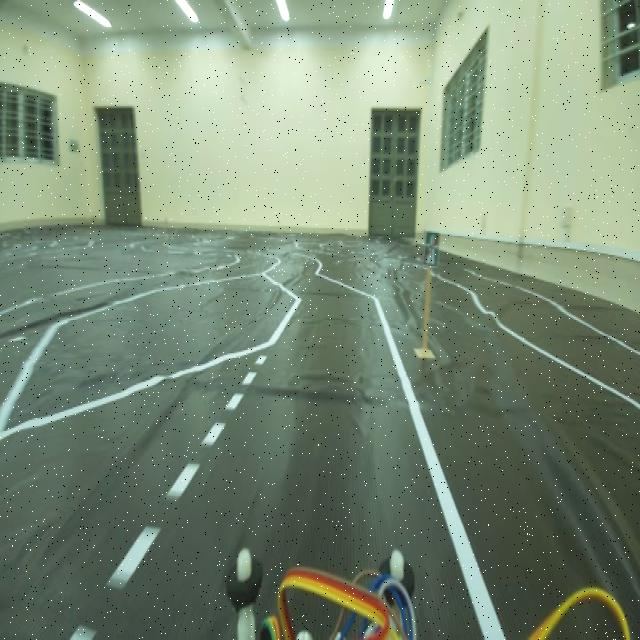highway_exit: (421, 225, 443, 276)
